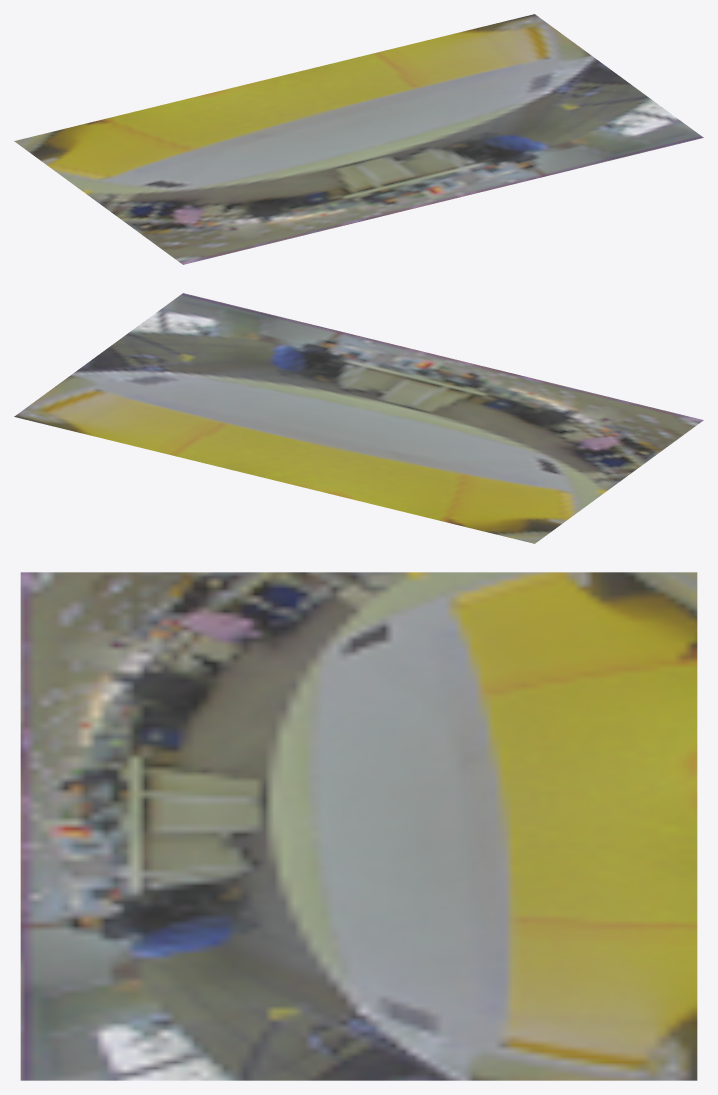
File: plane_single.gltf
The picture shows the model from 3 angles, top to bottom: view 1: azimuth 30°, elevation 25°; view 2: azimuth 150°, elevation 25°; view 3: azimuth 270°, elevation 25°; orthographic projection. The views are drawn at different scales.
Visible parts, largest first — view 1: left_only; view 2: left_only; view 3: left_only.
Part boxes in pixels (x1=…): left_only: x1=14, y1=14, x2=703, y2=264; left_only: x1=14, y1=293, x2=703, y2=543; left_only: x1=20, y1=572, x2=697, y2=1080.
Bounding box in the file's own units: 12.8 × 0 × 7.2.
Materials: 1 (1 with a texture image).
